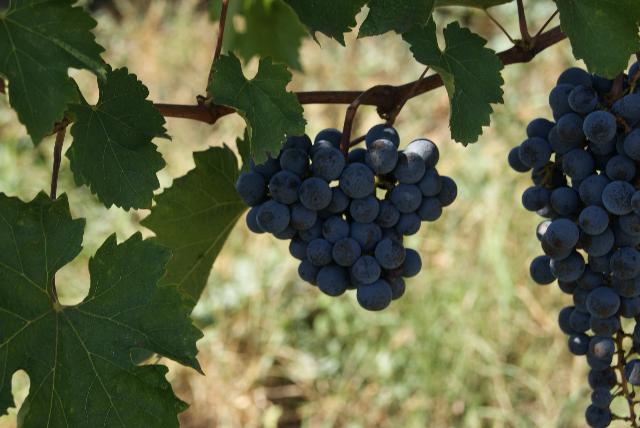grapes: (509, 62, 640, 428), (236, 125, 458, 311)
